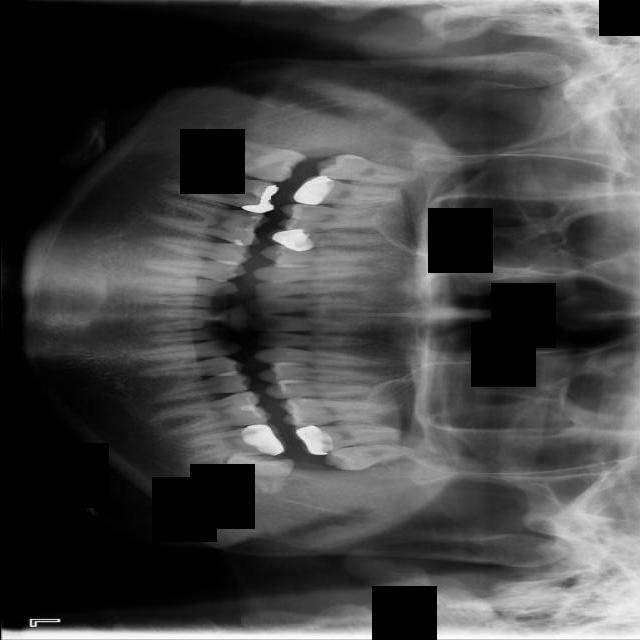3M ESPE Implant: (314, 151, 427, 189)
52: (236, 415, 291, 462), (290, 166, 335, 214), (293, 415, 338, 463), (240, 178, 280, 218), (233, 211, 271, 247), (270, 227, 315, 255), (238, 394, 267, 419), (206, 308, 224, 317), (207, 308, 224, 317), (230, 238, 245, 246)
73: (38, 591, 46, 594)
BioHorizons Implant: (291, 422, 402, 457)
BioLife Implant: (322, 440, 418, 474)
Biomet 3i Implant: (223, 450, 294, 497)
Blue Sky Bio Implant: (182, 420, 288, 466)
Caries: (290, 173, 400, 210)
Implant: (158, 165, 279, 216)
Keystone Dental Implant: (201, 132, 308, 188)
